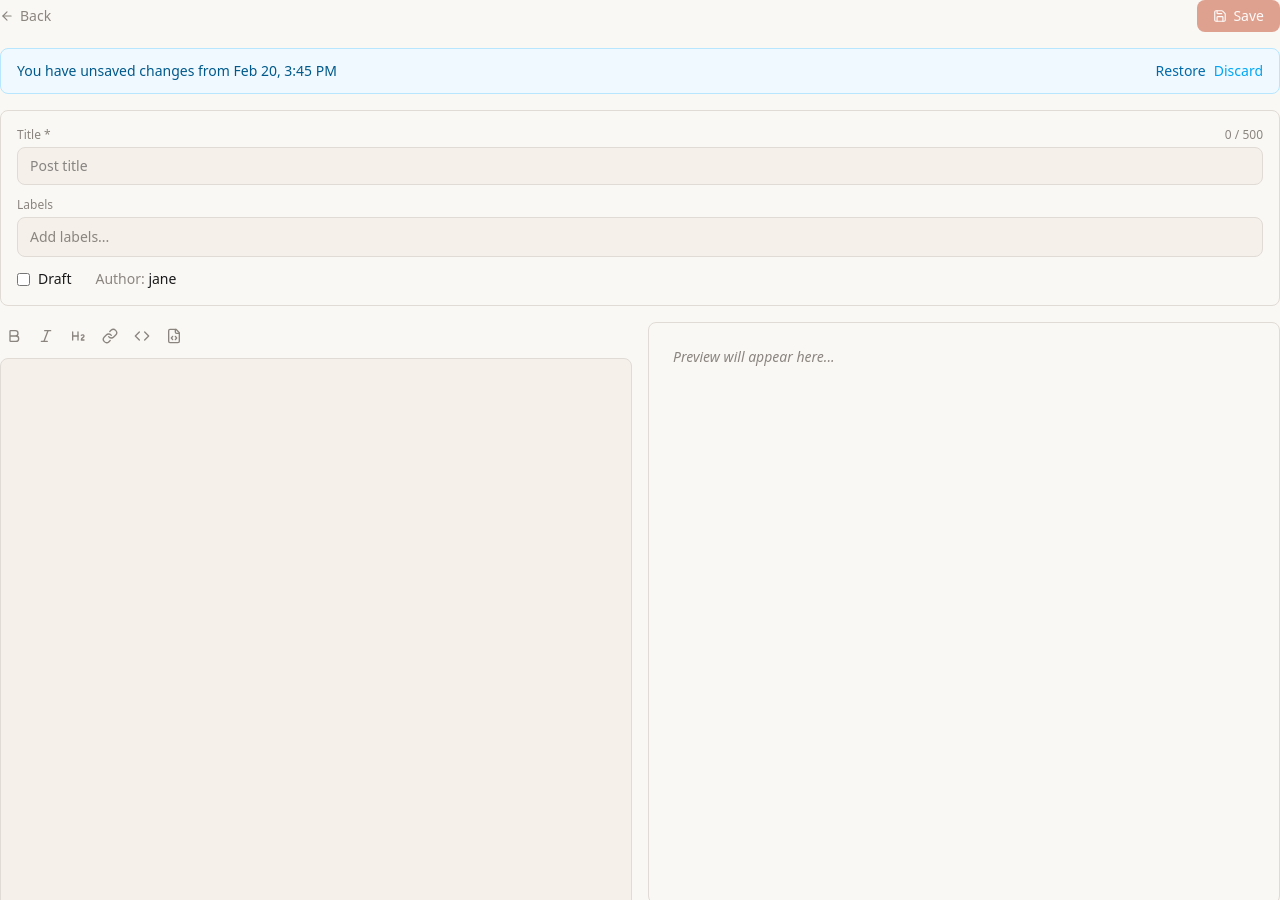
Test case: EditorPage › restores draft content when Restore is clicked
Click the button "Restore" at point(1181, 71), box [1156,61,1206,81]
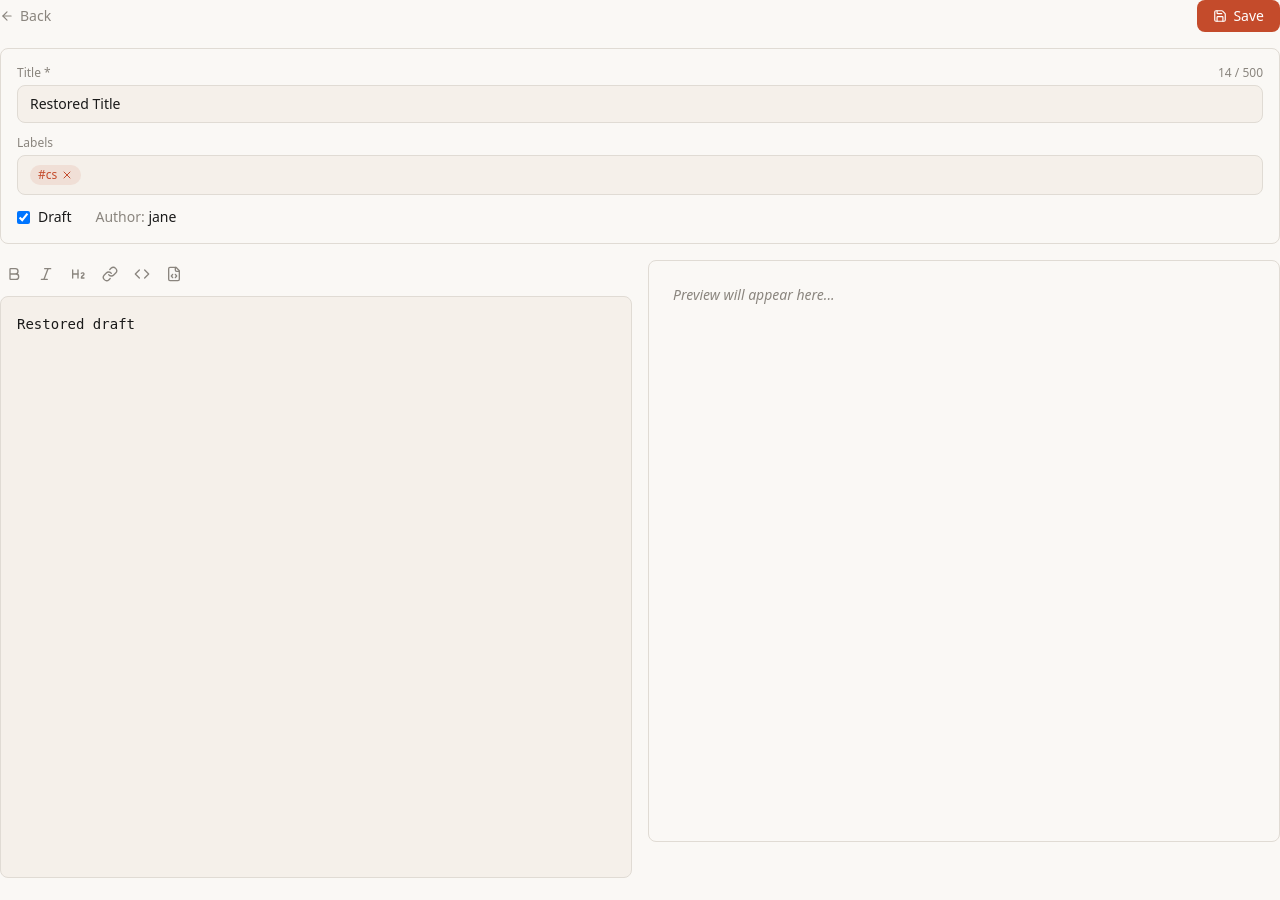
expect the text box is shown: met, box [0,296,632,878]
expect the text "unsaved changes" is gone: met
expect the field labelled "Title *" holds "Restored Title": met, box [17,85,1263,123]
